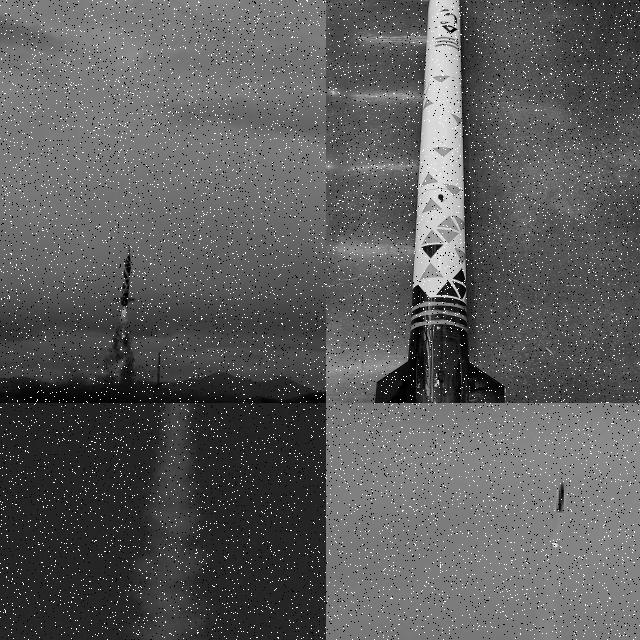Rocket: (374, 0, 508, 403), (113, 245, 137, 307), (554, 479, 566, 513)
